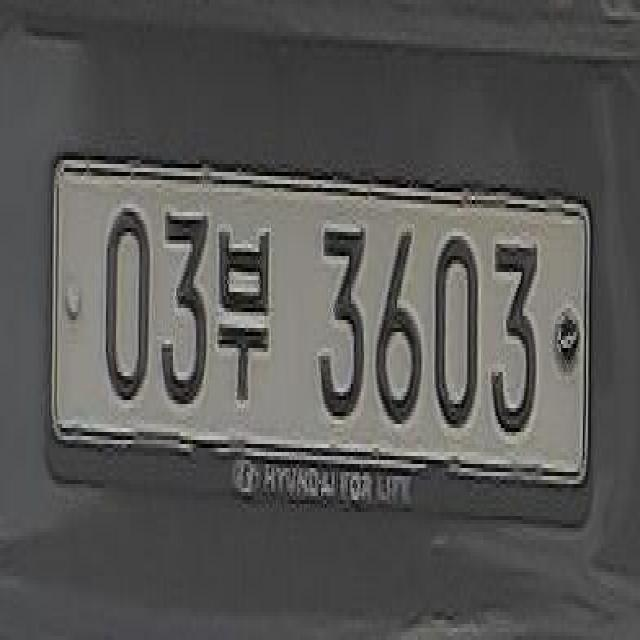illegal_plate: (47, 148, 601, 536)
